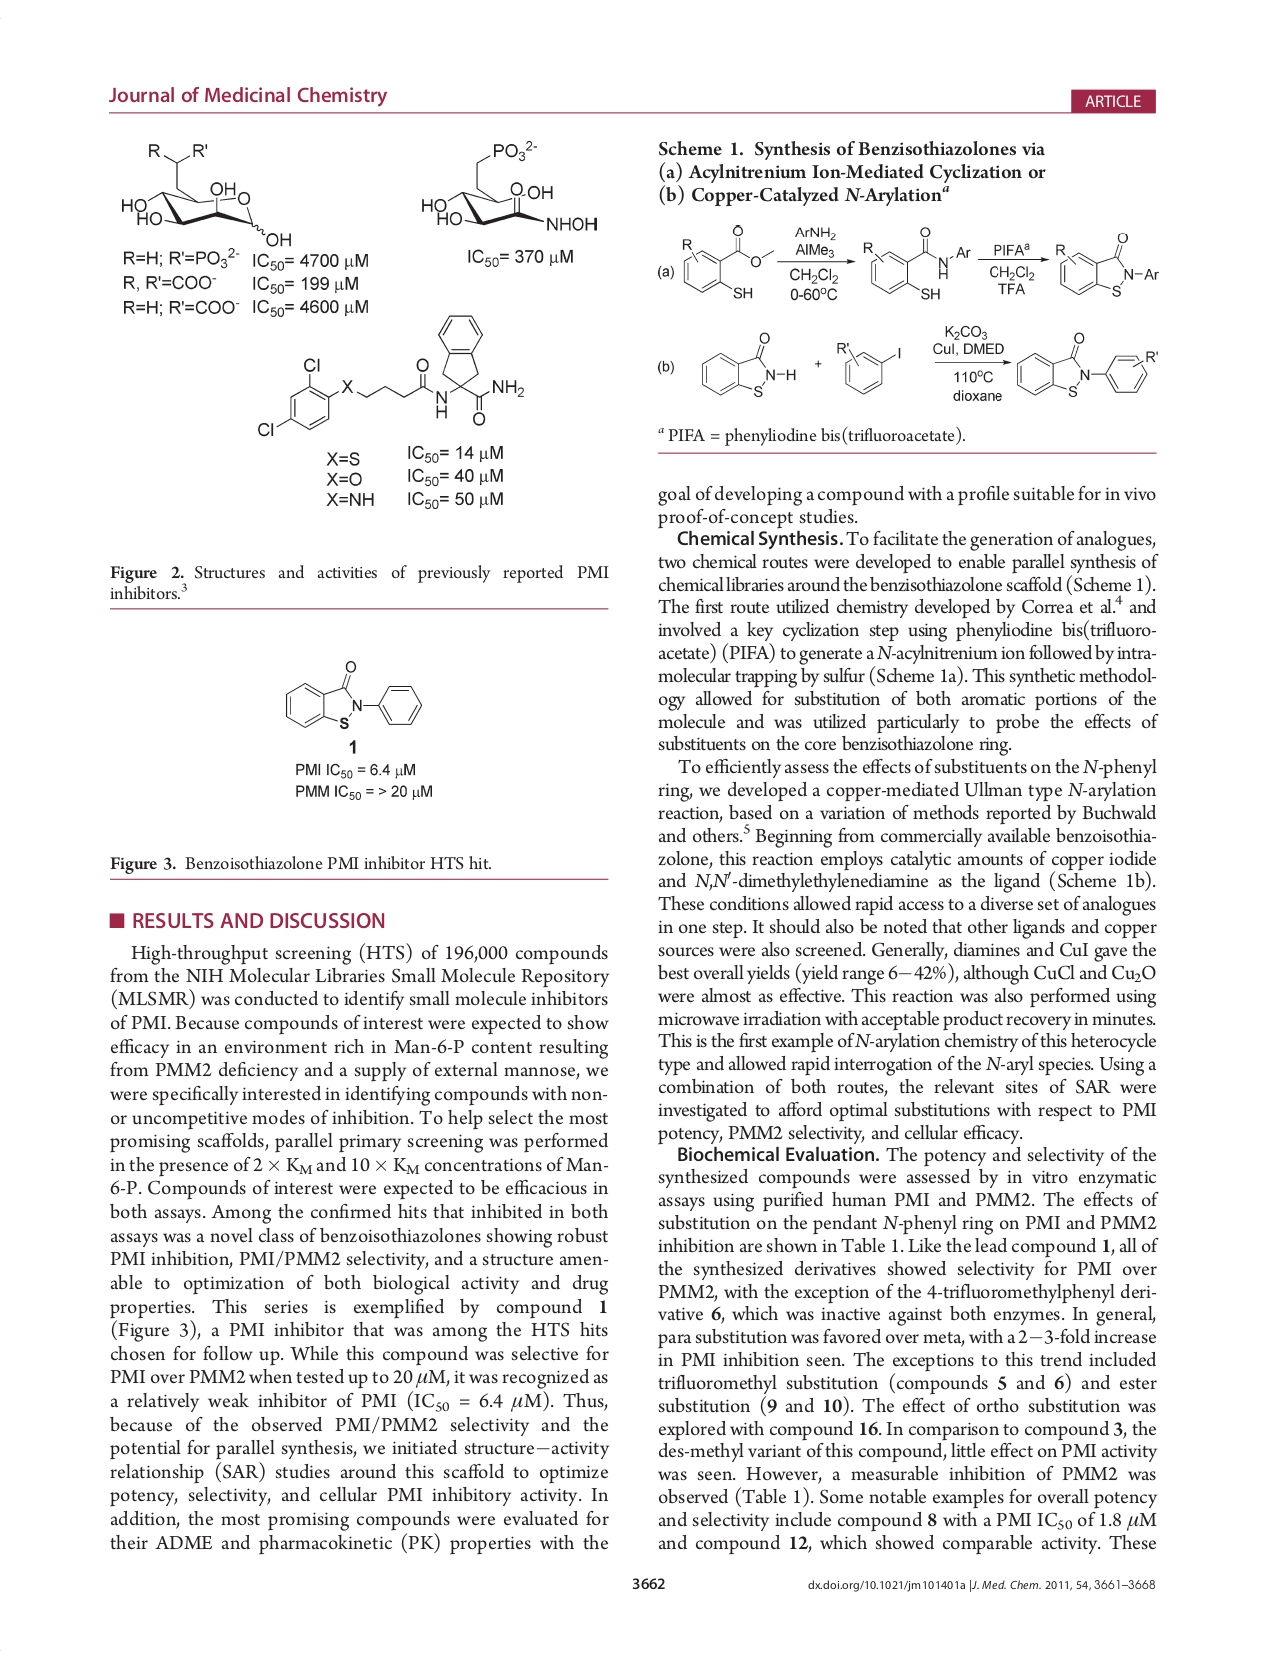exist_molecular: (249, 313, 527, 438), (113, 140, 293, 250), (418, 136, 601, 239), (274, 656, 432, 737), (1012, 328, 1160, 402), (862, 223, 971, 303), (1051, 226, 1160, 299), (678, 222, 777, 301), (696, 330, 798, 399), (835, 336, 906, 402)
